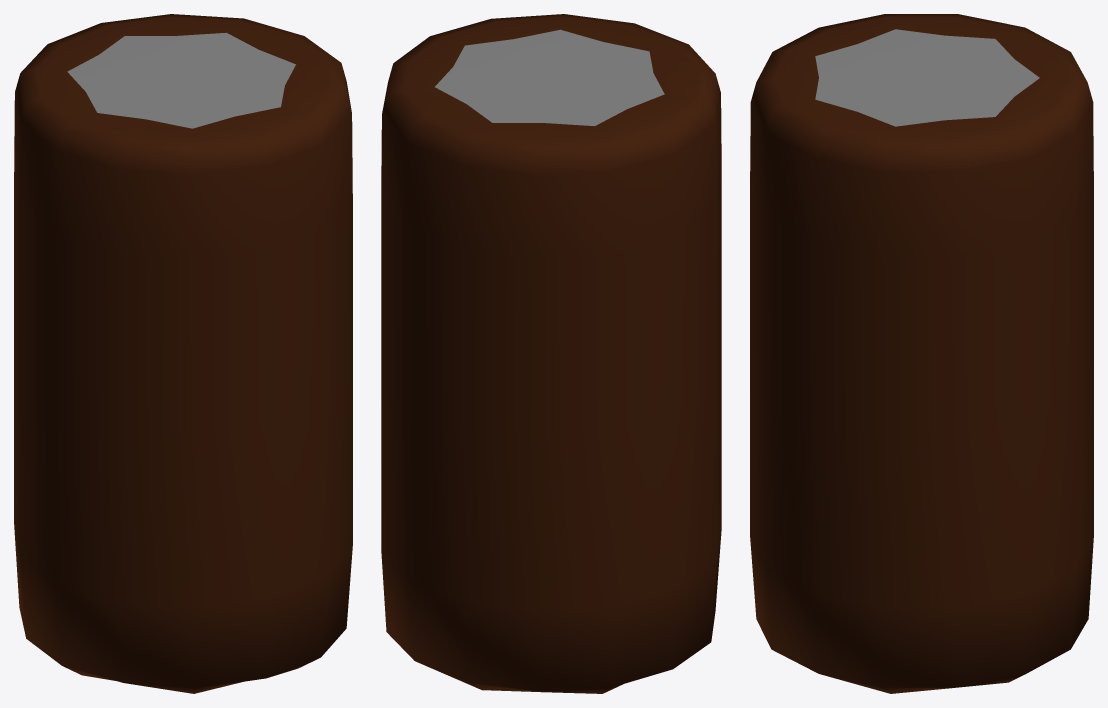
The model's file is Can_1.fbx.
The picture shows the model from 3 angles, left to right: view 1: azimuth 30°, elevation 25°; view 2: azimuth 150°, elevation 25°; view 3: azimuth 270°, elevation 25°; orthographic projection.
Visible parts, largest first — view 1: Can_1.002; view 2: Can_1.002; view 3: Can_1.002.
Boxes of the visible parts, box(x1,y1,x2,y2) form: Can_1.002: box(14, 14, 352, 693); Can_1.002: box(381, 14, 721, 693); Can_1.002: box(750, 14, 1093, 693).
Size of the model in its own units: 8.53 by 15.8 by 8.74.
